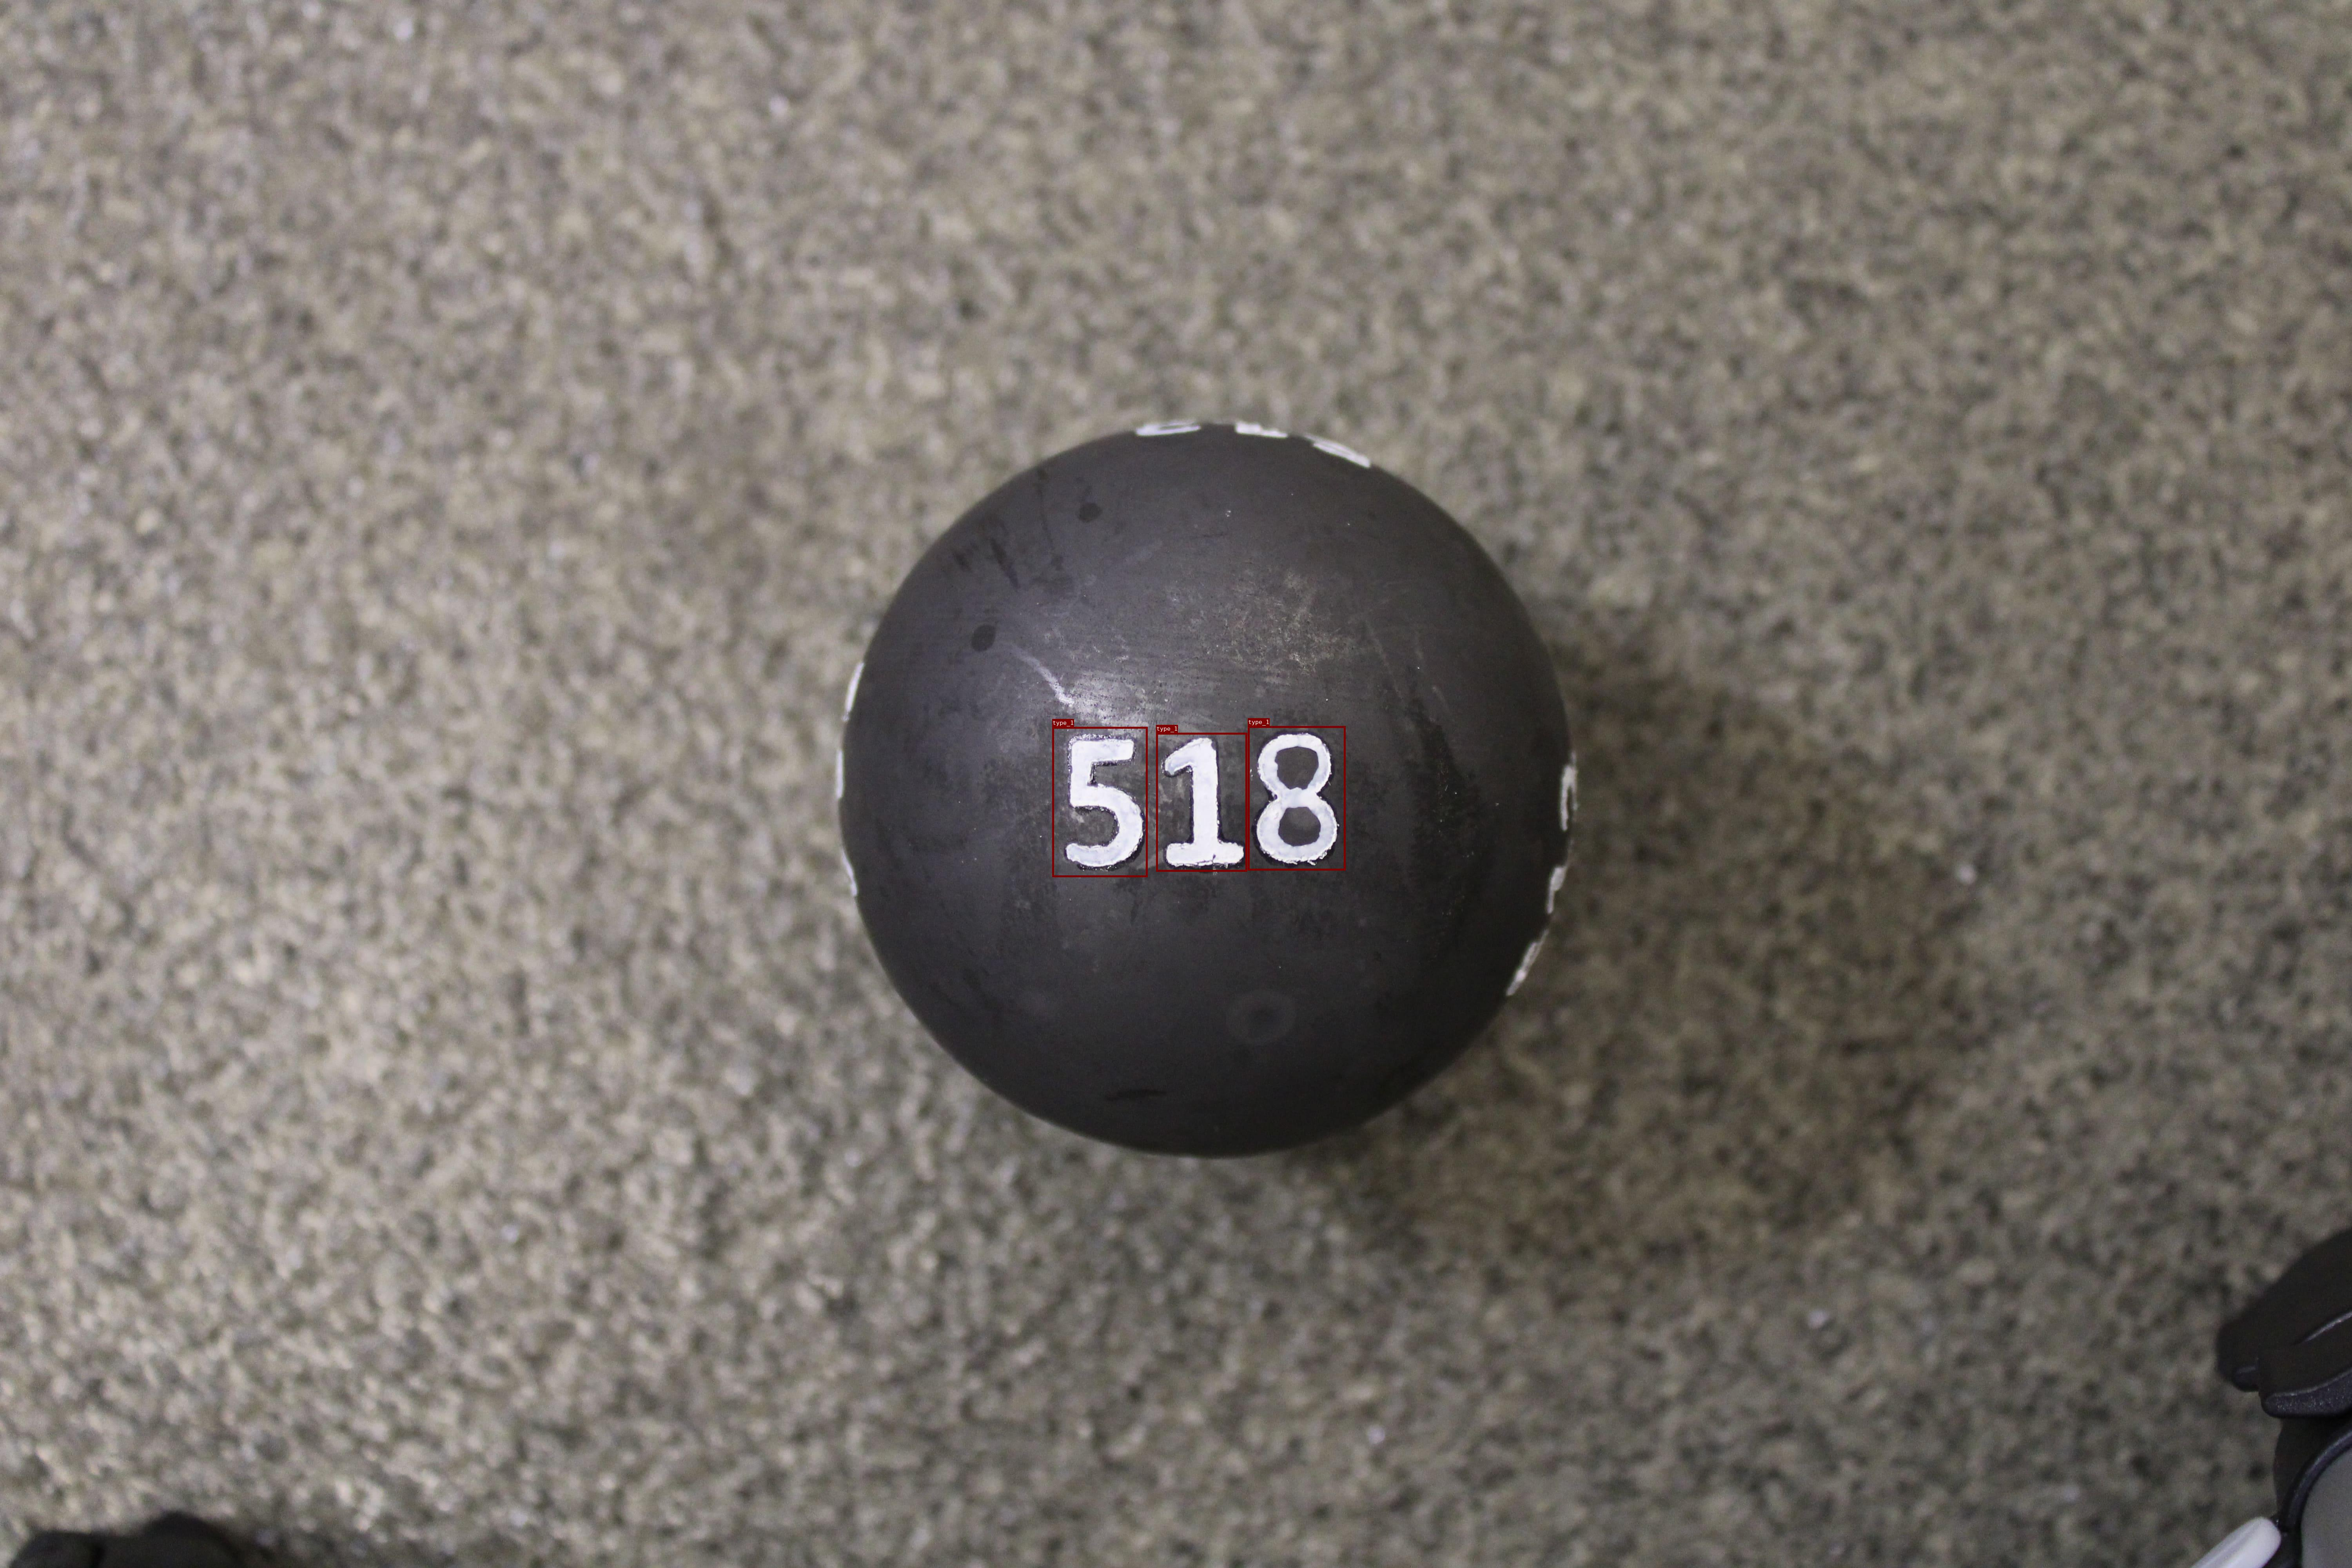type_1: (1052, 726, 1148, 877), (1248, 726, 1346, 870), (1157, 733, 1248, 872)
